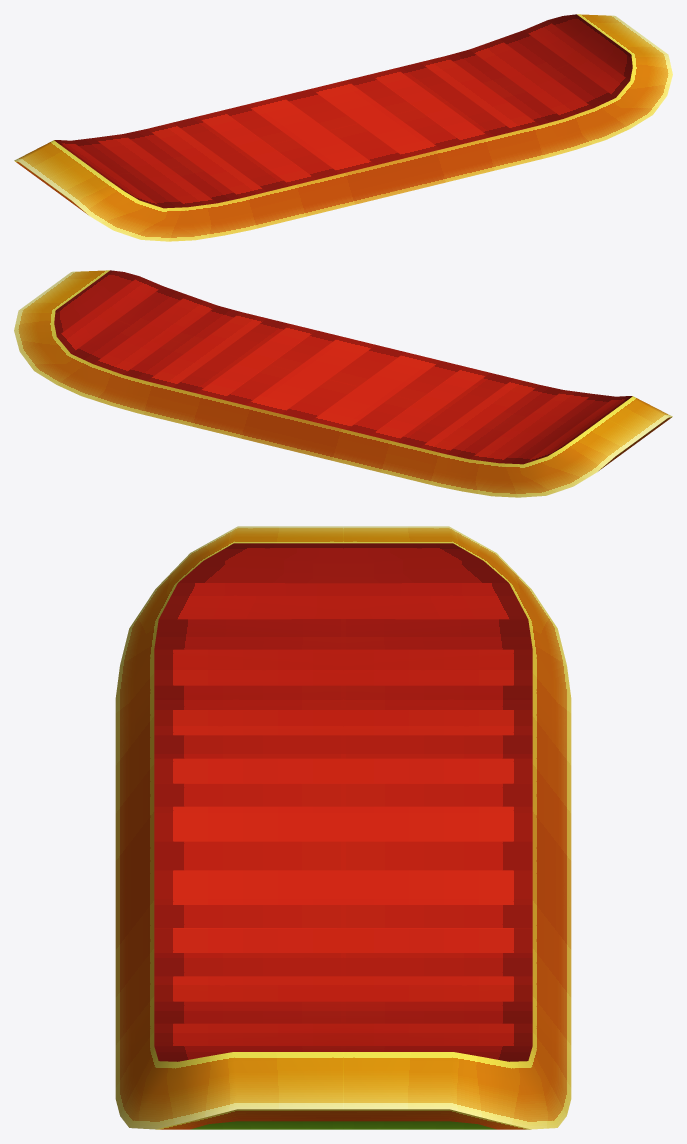
The model's file is hoverboard_new_look.glb.
3 renders of one model, top to bottom at view 1: azimuth 30°, elevation 25°; view 2: azimuth 150°, elevation 25°; view 3: azimuth 270°, elevation 25°, orthographic. The views are drawn at different scales.
Parts seen in each view (by area): view 1: Object_2; view 2: Object_2; view 3: Object_2.
Part boxes in pixels (x1,y1,x2,y2): Object_2: [14, 14, 672, 241]; Object_2: [14, 270, 672, 497]; Object_2: [115, 526, 571, 1129].
Bounding box in the file's own units: 8.35 × 0.7892 × 2.76.
Materials: 1 (1 with a texture image).
